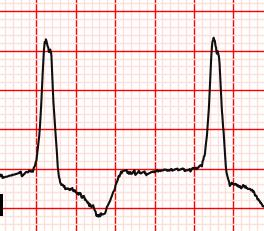ST Depression: (27, 159, 77, 192)
T inversion: (75, 167, 129, 220)
